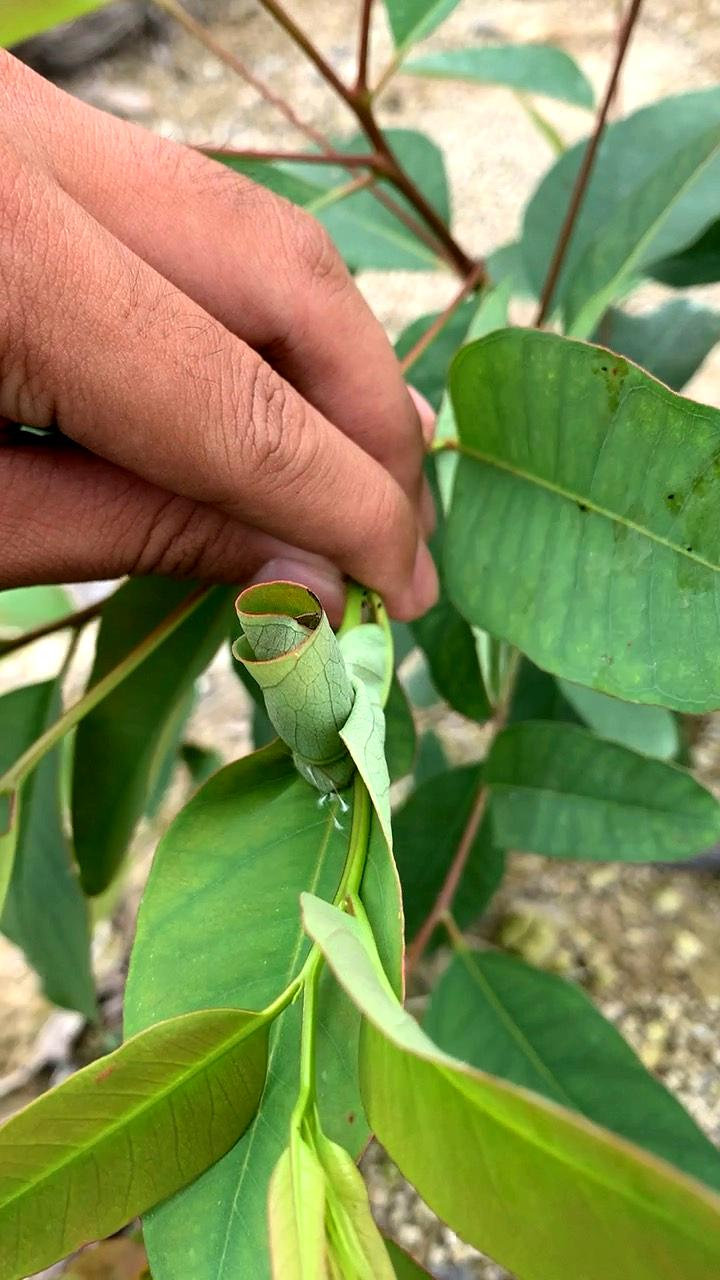Leaf Roller - Leaf: (227, 556, 371, 814)
